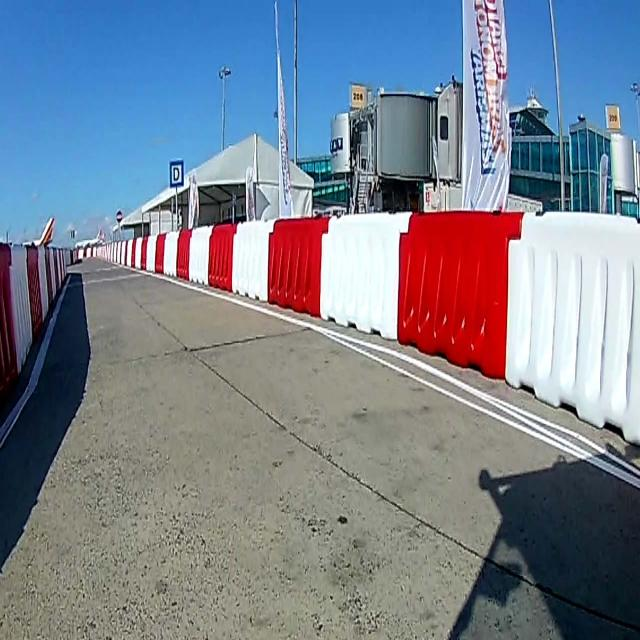durak: (168, 159, 184, 189)
girisyok: (116, 211, 122, 223)
